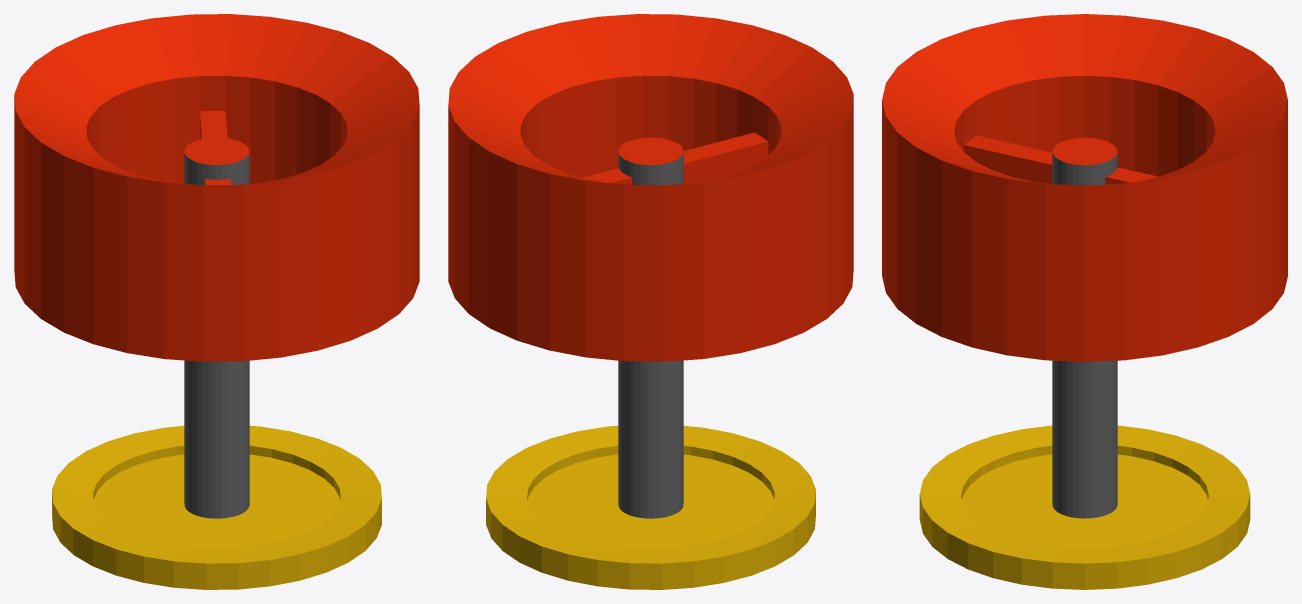
File: smallLamp.fbx
3 views of the same model, side by side, from view 1: azimuth 30°, elevation 25°; view 2: azimuth 150°, elevation 25°; view 3: azimuth 270°, elevation 25° (orthographic).
Parts seen in each view (by area): view 1: smallLamp:Mesh; view 2: smallLamp:Mesh; view 3: smallLamp:Mesh.
Part boxes in pixels (x1,y1,x2,y2): smallLamp:Mesh: (14, 14, 419, 589); smallLamp:Mesh: (448, 14, 853, 589); smallLamp:Mesh: (882, 14, 1287, 589).
Size of the model in its own units: 6.23 by 7.12 by 6.23.
